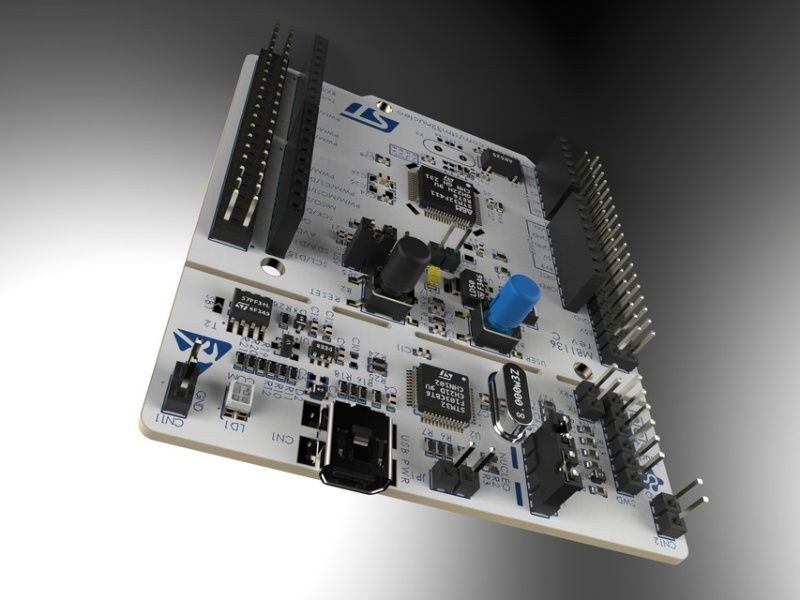stmnucleo: (145, 26, 717, 574)
